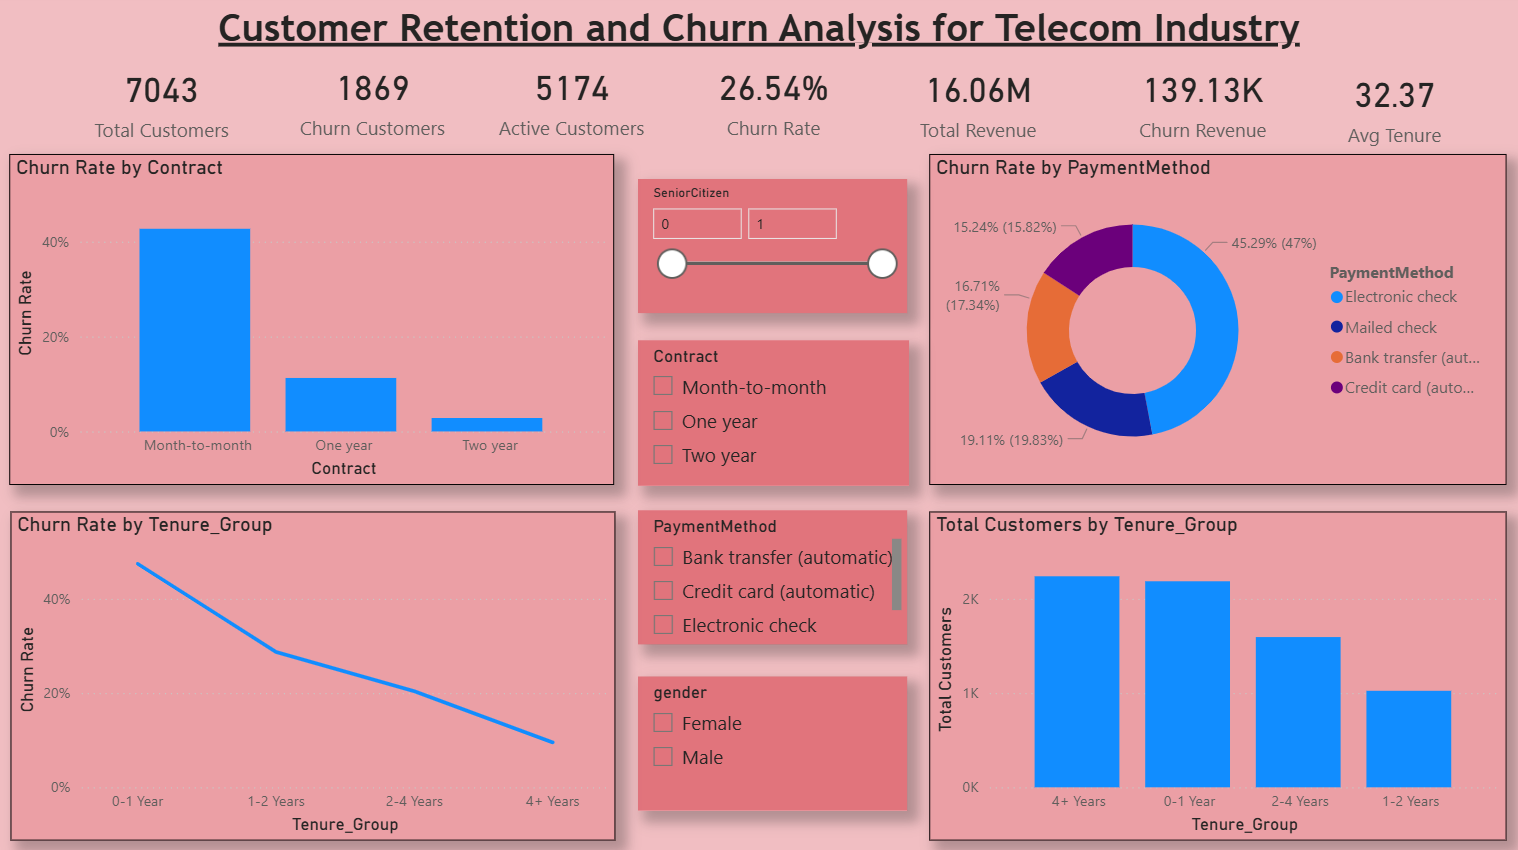

The page's visual inventory and layout, read from the dashboard file:
{"tool":"powerbi","page":{"name":"Page 1","canvas":[1280,720],"ordinal":0},"visuals":[{"type":"card","fields":{"Values":["WA_Fn-UseC_-Telco-Customer-Churn.Total Customers"]},"box":[63.1,48,149.6,74.1],"z":0},{"type":"card","fields":{"Values":["WA_Fn-UseC_-Telco-Customer-Churn.Churn Customers"]},"box":[212.7,48,205.8,71.4],"z":1000},{"type":"card","fields":{"Values":["WA_Fn-UseC_-Telco-Customer-Churn.Churn Rate"]},"box":[577.7,48,150.9,71.4],"z":2000},{"type":"clusteredColumnChart","fields":{"Category":["WA_Fn-UseC_-Telco-Customer-Churn.Contract"],"Y":["WA_Fn-UseC_-Telco-Customer-Churn.Churn Rate"]},"box":[9.6,130.4,509.1,278.6],"z":3000},{"type":"lineChart","fields":{"Category":["WA_Fn-UseC_-Telco-Customer-Churn.Tenure_Group"],"Y":["WA_Fn-UseC_-Telco-Customer-Churn.Churn Rate"]},"box":[11,430.9,509.1,277.2],"z":4000},{"type":"donutChart","fields":{"Category":["WA_Fn-UseC_-Telco-Customer-Churn.PaymentMethod"],"Y":["WA_Fn-UseC_-Telco-Customer-Churn.Churn Rate"]},"box":[783.5,130.4,485.8,278.6],"z":5000},{"type":"slicer","fields":{"Values":["WA_Fn-UseC_-Telco-Customer-Churn.gender"]},"box":[537.9,569.5,226.4,112.5],"z":6000},{"type":"slicer","fields":{"Values":["WA_Fn-UseC_-Telco-Customer-Churn.SeniorCitizen"]},"box":[537.9,150.9,226.4,112.5],"z":7000},{"type":"slicer","fields":{"Values":["WA_Fn-UseC_-Telco-Customer-Churn.Contract"]},"box":[537.9,286.8,227.8,122.1],"z":8000},{"type":"textbox","box":[0,0,1280.3,48],"z":9000},{"type":"clusteredColumnChart","fields":{"Category":["WA_Fn-UseC_-Telco-Customer-Churn.Tenure_Group"],"Y":["WA_Fn-UseC_-Telco-Customer-Churn.Total Customers"]},"box":[783.5,430.9,485.8,277.2],"z":10000},{"type":"card","fields":{"Values":["WA_Fn-UseC_-Telco-Customer-Churn.Avg Tenure"]},"box":[1069,48,211.3,82.3],"z":11000},{"type":"card","fields":{"Values":["WA_Fn-UseC_-Telco-Customer-Churn.Active Customers"]},"box":[388.3,48,189.4,71.4],"z":12000},{"type":"card","fields":{"Values":["WA_Fn-UseC_-Telco-Customer-Churn.Total Revenue"]},"box":[728.6,48,192.1,74.1],"z":13000},{"type":"card","fields":{"Values":["WA_Fn-UseC_-Telco-Customer-Churn.Churn Revenue"]},"box":[938.6,48,149.6,74.1],"z":14000},{"type":"slicer","fields":{"Values":["WA_Fn-UseC_-Telco-Customer-Churn.PaymentMethod"]},"box":[537.9,429.5,226.4,112.5],"z":14001}]}

Visuals, with their boxes in screenshot pixels (x1, y1, x2, y2), scaled from the page's 1280x720 canvas onto the 1518x850 screenshot:
card - WA_Fn-UseC_-Telco-Customer-Churn.Total Customers: <region>75, 57, 252, 144</region>
card - WA_Fn-UseC_-Telco-Customer-Churn.Churn Customers: <region>252, 57, 496, 141</region>
card - WA_Fn-UseC_-Telco-Customer-Churn.Churn Rate: <region>685, 57, 864, 141</region>
clusteredColumnChart - WA_Fn-UseC_-Telco-Customer-Churn.Contract x WA_Fn-UseC_-Telco-Customer-Churn.Churn Rate: <region>11, 154, 615, 483</region>
lineChart - WA_Fn-UseC_-Telco-Customer-Churn.Tenure_Group x WA_Fn-UseC_-Telco-Customer-Churn.Churn Rate: <region>13, 509, 617, 836</region>
donutChart - WA_Fn-UseC_-Telco-Customer-Churn.PaymentMethod x WA_Fn-UseC_-Telco-Customer-Churn.Churn Rate: <region>929, 154, 1505, 483</region>
slicer - WA_Fn-UseC_-Telco-Customer-Churn.gender: <region>638, 672, 906, 805</region>
slicer - WA_Fn-UseC_-Telco-Customer-Churn.SeniorCitizen: <region>638, 178, 906, 311</region>
slicer - WA_Fn-UseC_-Telco-Customer-Churn.Contract: <region>638, 339, 908, 483</region>
textbox: <region>0, 0, 1517, 57</region>
clusteredColumnChart - WA_Fn-UseC_-Telco-Customer-Churn.Tenure_Group x WA_Fn-UseC_-Telco-Customer-Churn.Total Customers: <region>929, 509, 1505, 836</region>
card - WA_Fn-UseC_-Telco-Customer-Churn.Avg Tenure: <region>1268, 57, 1517, 154</region>
card - WA_Fn-UseC_-Telco-Customer-Churn.Active Customers: <region>460, 57, 685, 141</region>
card - WA_Fn-UseC_-Telco-Customer-Churn.Total Revenue: <region>864, 57, 1092, 144</region>
card - WA_Fn-UseC_-Telco-Customer-Churn.Churn Revenue: <region>1113, 57, 1291, 144</region>
slicer - WA_Fn-UseC_-Telco-Customer-Churn.PaymentMethod: <region>638, 507, 906, 640</region>
